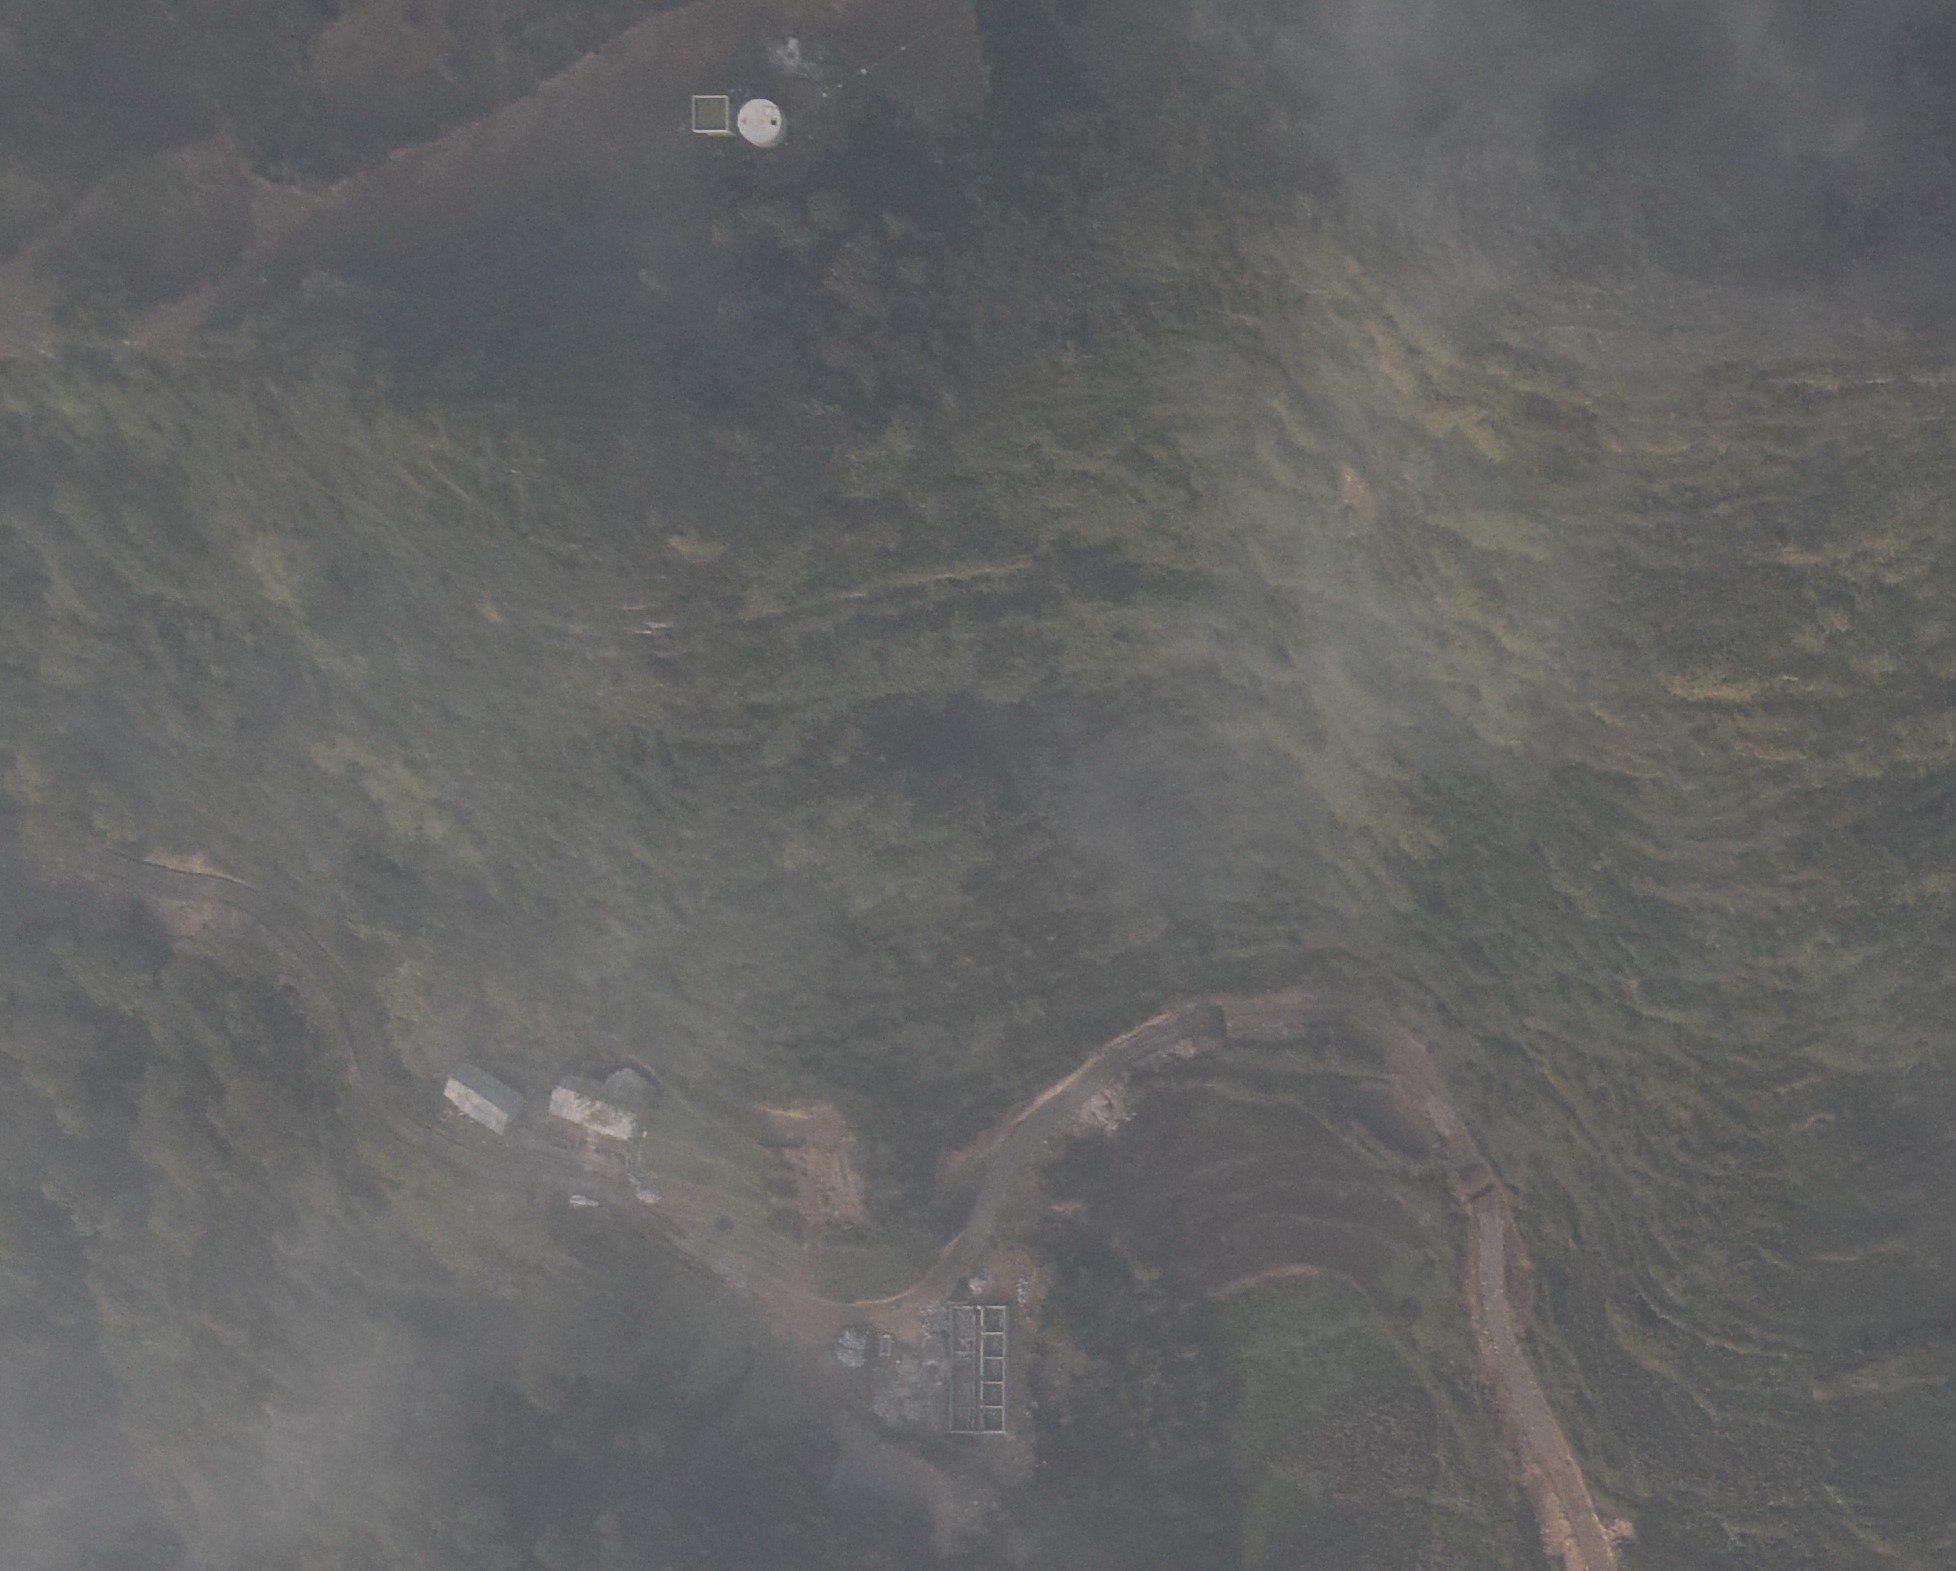building: (943, 1300, 1013, 1438), (545, 1069, 653, 1143), (434, 1060, 529, 1137), (688, 91, 739, 139)
well: (731, 95, 794, 151)
